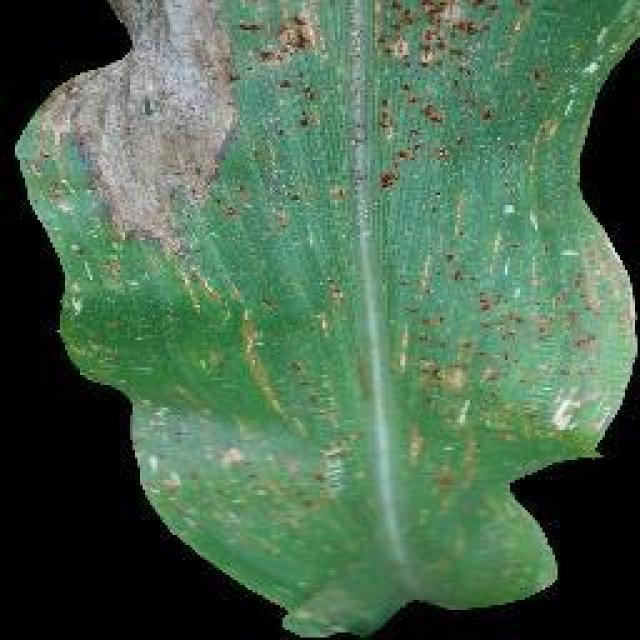Corn Common Rust: (120, 31, 587, 472)
